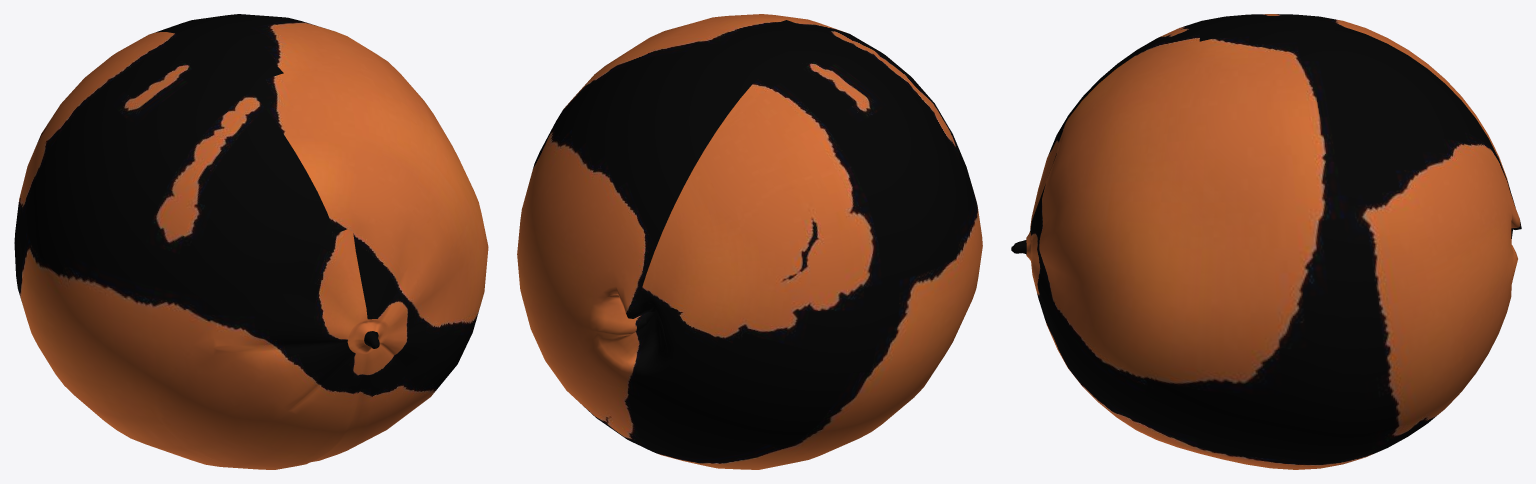
3 views of the same model, side by side, from view 1: azimuth 30°, elevation 25°; view 2: azimuth 150°, elevation 25°; view 3: azimuth 270°, elevation 25° (orthographic). The views are drawn at different scales.
Size of the model in its own units: 0.9215 by 0.8872 by 1.
